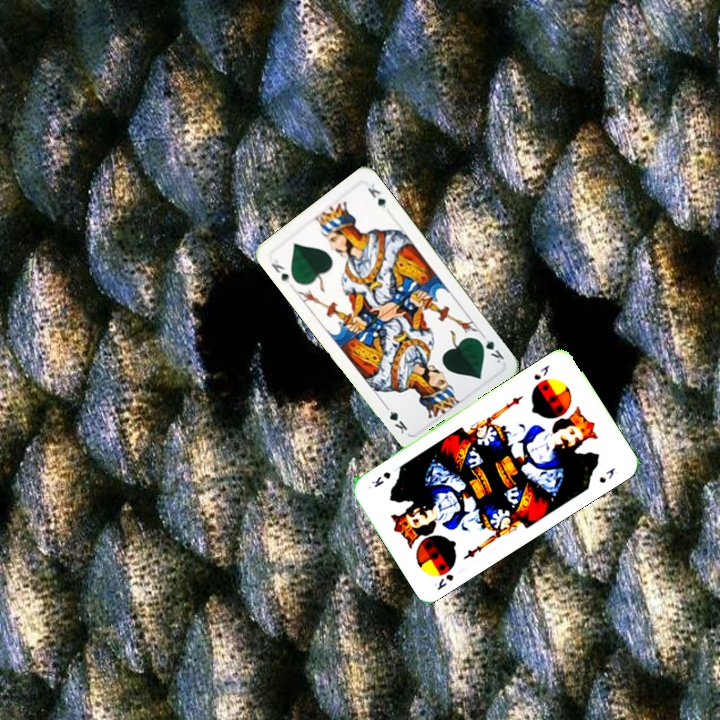GK: (473, 330, 507, 366), (267, 255, 292, 286)
SK: (430, 570, 456, 593), (530, 361, 552, 383)
